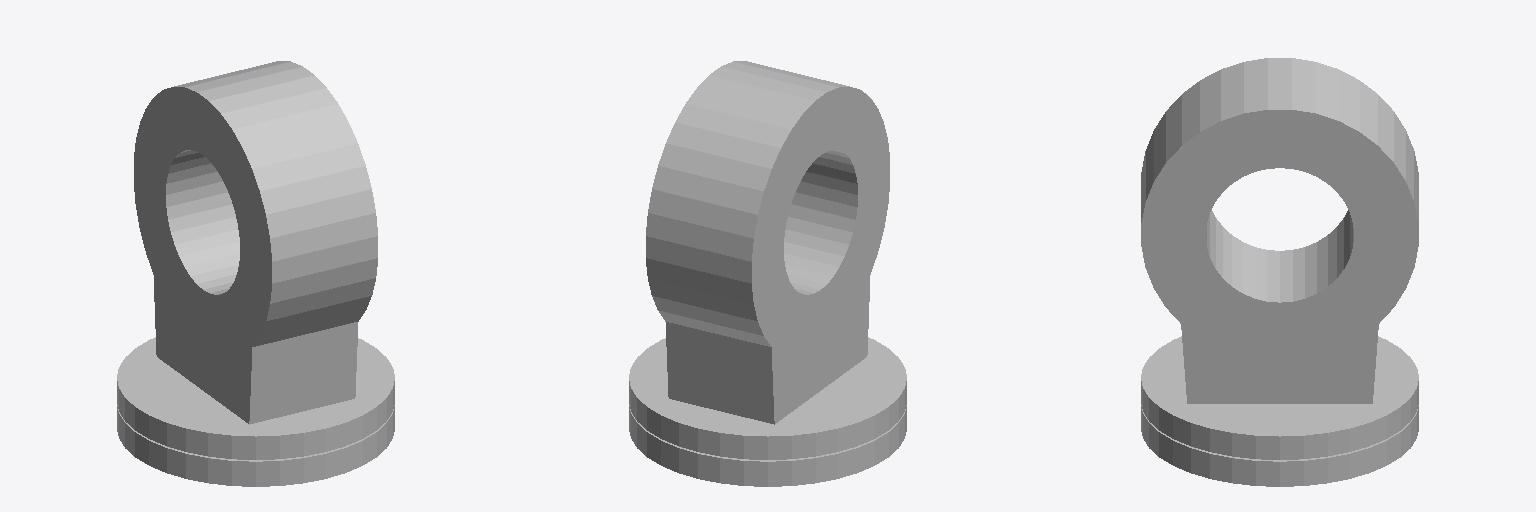
The model's file is arm_4.obj.
The picture shows the model from 3 angles: view 1: azimuth 30°, elevation 25°; view 2: azimuth 150°, elevation 25°; view 3: azimuth 270°, elevation 25°; orthographic projection.
Visible parts, largest first — view 1: arm_4.001; view 2: arm_4.001; view 3: arm_4.001.
Boxes of the visible parts, box(x1,y1,x2,y2) form: arm_4.001: box(117, 61, 394, 486); arm_4.001: box(629, 61, 906, 486); arm_4.001: box(1141, 58, 1418, 486).
Bounding box in the file's own units: 360 × 492 × 360.